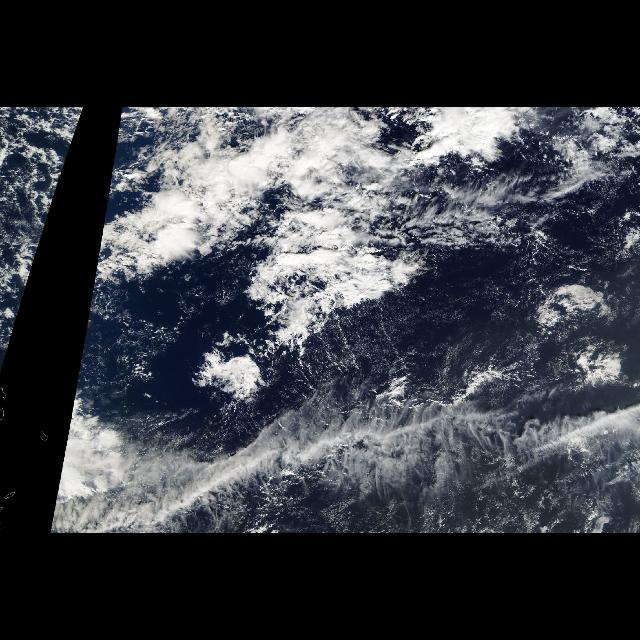Fish: (195, 372, 638, 518), (342, 166, 586, 268)
Sugar: (320, 286, 540, 380)
